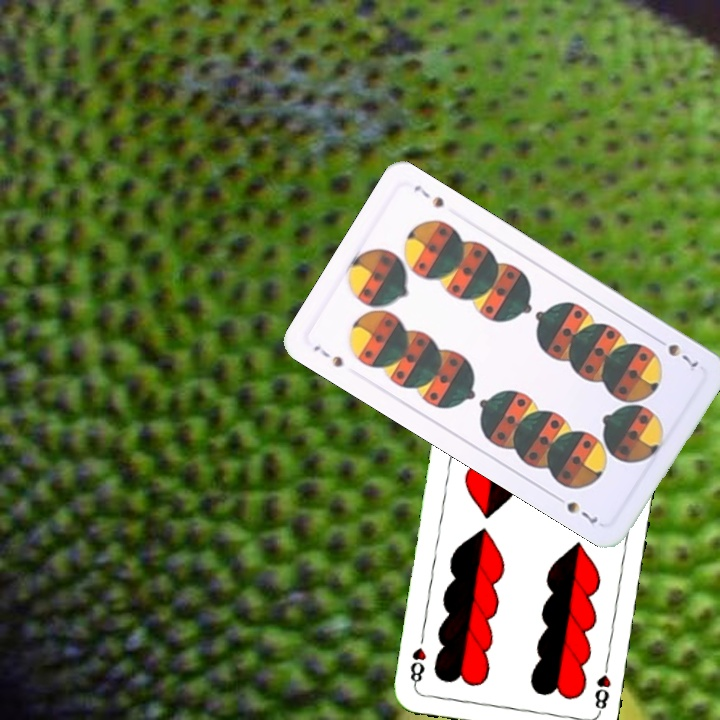H8: (591, 657, 613, 716)
S7: (651, 333, 701, 371), (309, 341, 346, 370)
